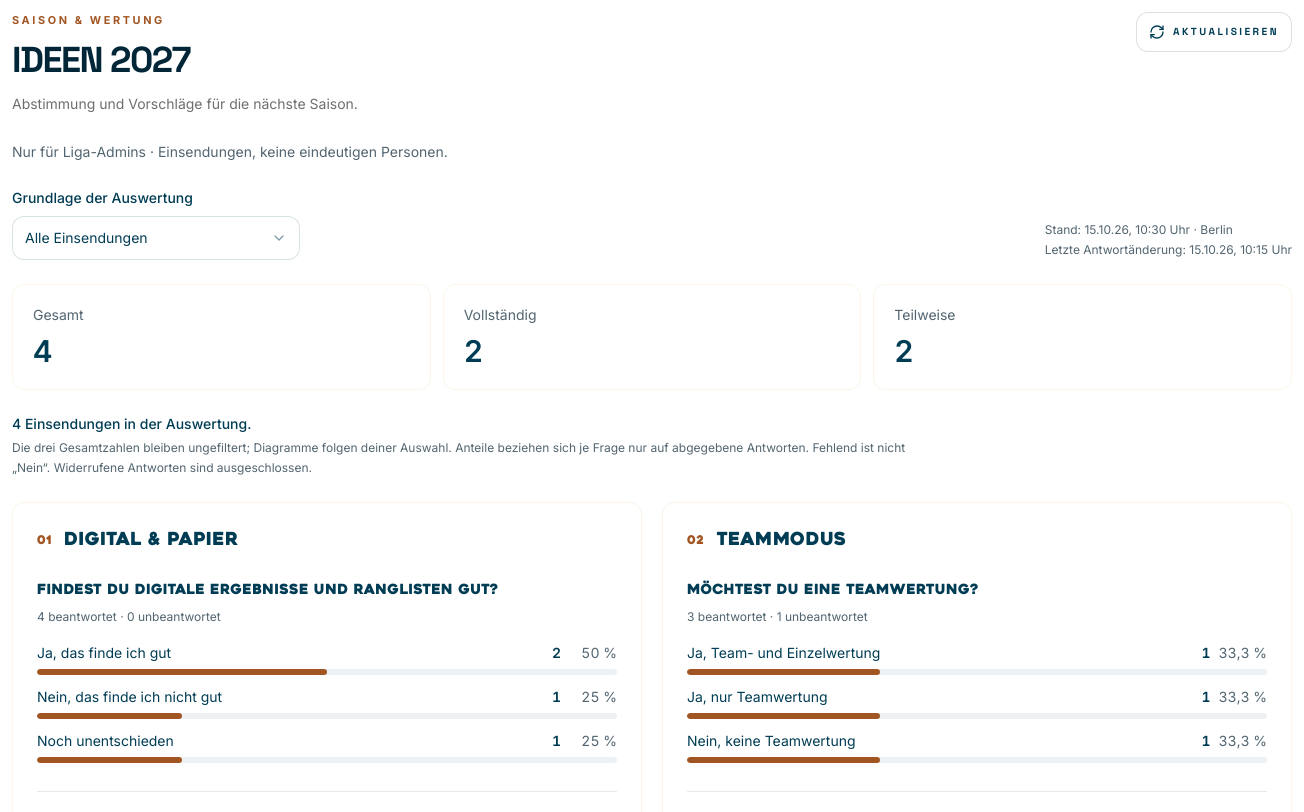
Scenario: 2027 ideas admin dashboard › filters all charts by status and restores All
Expected: the text "4 Einsendungen in der Auswertung." is shown, [12, 415, 251, 432]
Step 1. Press ArrowDown in the dropdown named "Grundlage der Auswertung", box [12, 216, 300, 260]
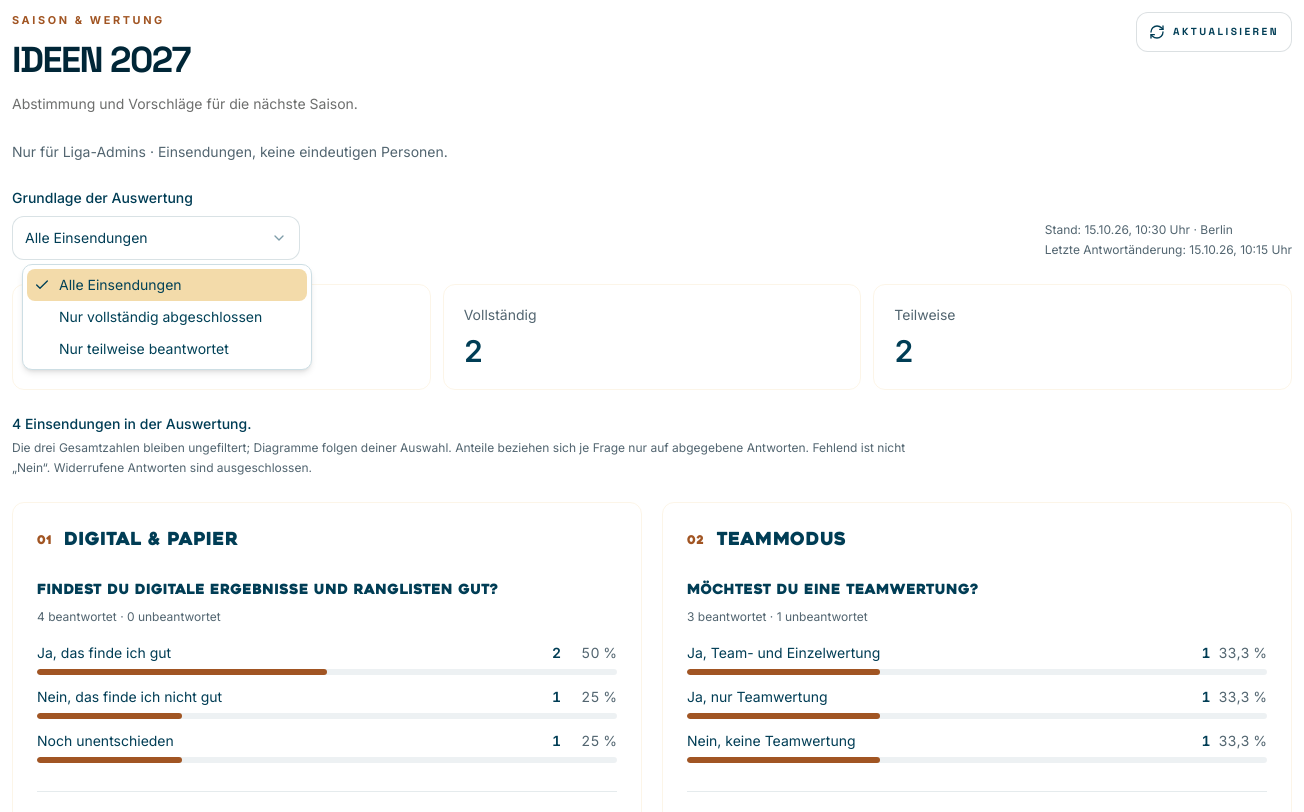
Expected: the option "Nur teilweise beantwortet" is shown
Step 2. Click the option "Nur teilweise beantwortet" → [144, 348], box [59, 340, 229, 357]
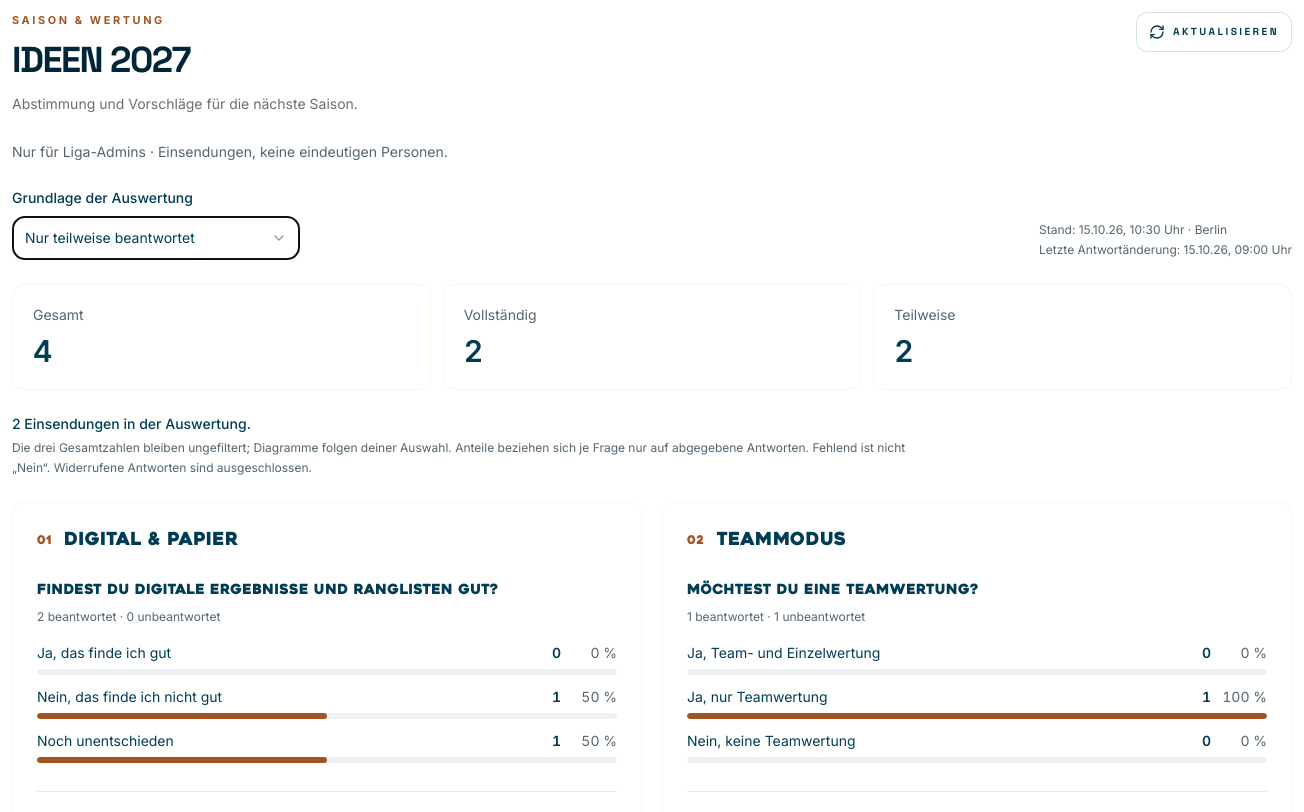
Expected: the text "2 Einsendungen in der Auswertung." is shown, [12, 415, 251, 432]
Step 3. Press ArrowDown in the dropdown named "Grundlage der Auswertung", box [12, 216, 300, 260]
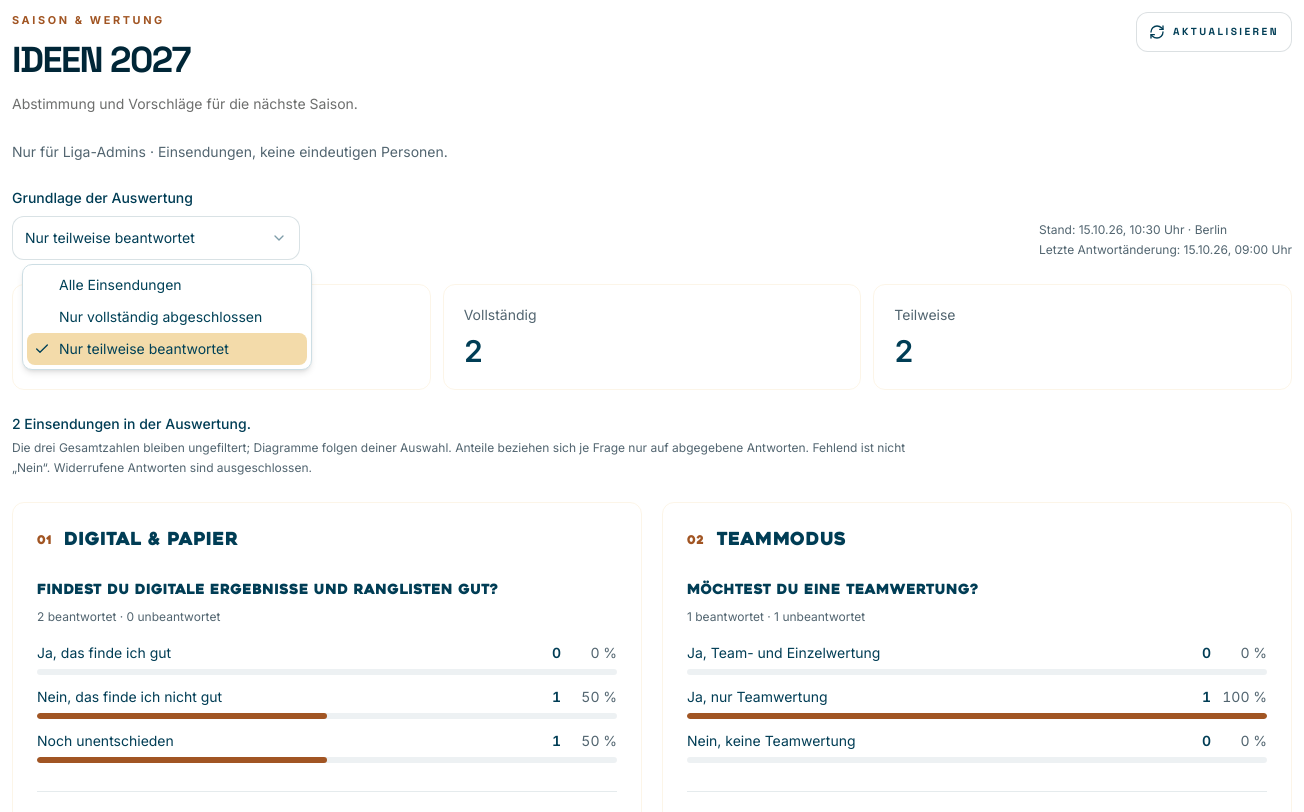
Step 4. Click the option "Alle Einsendungen" → [120, 284], box [59, 276, 182, 293]
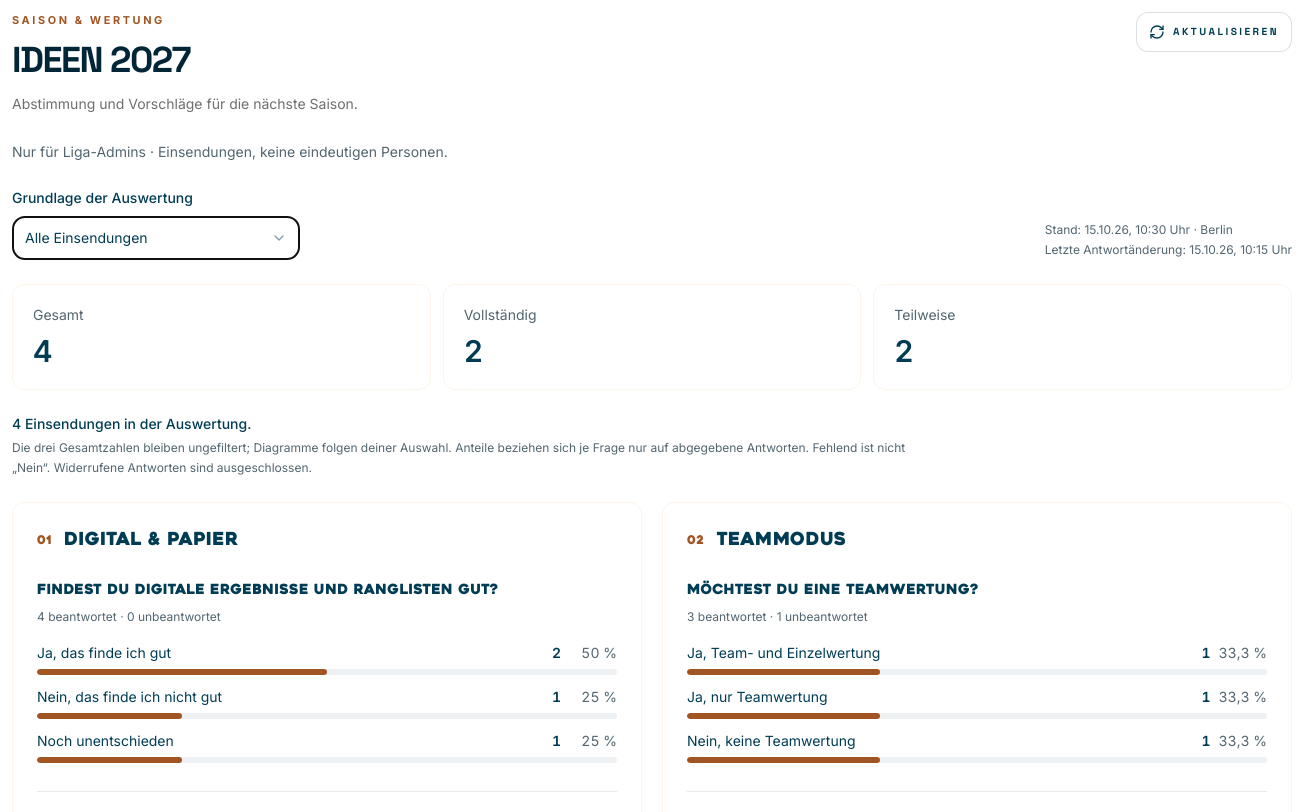
Expected: the text "4 Einsendungen in der Auswertung." is shown, [12, 415, 251, 432]
